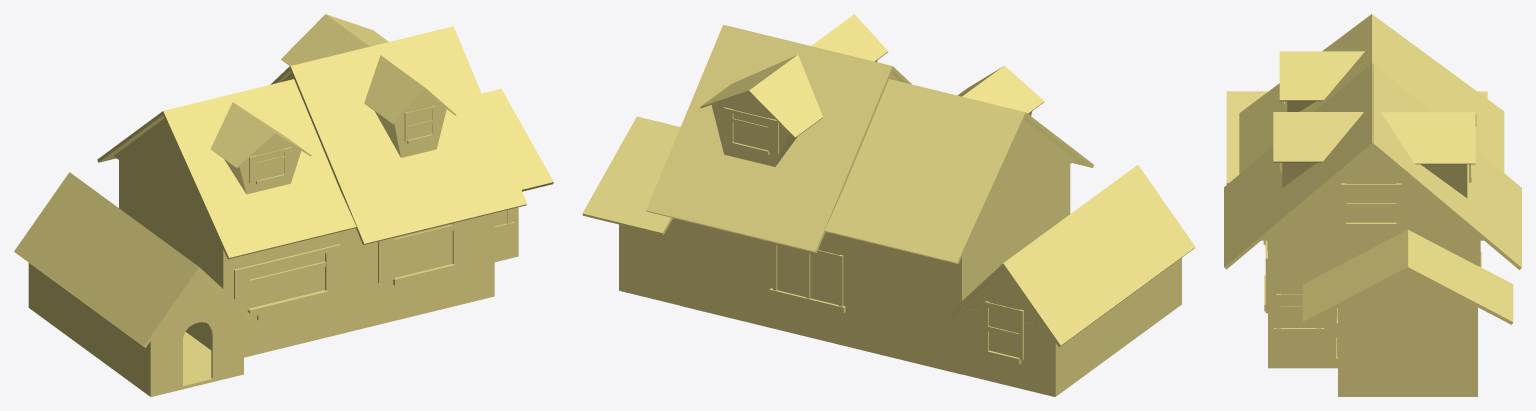
Rendered from Casa2.obj.
3 views of the same model, side by side, from view 1: azimuth 30°, elevation 25°; view 2: azimuth 150°, elevation 25°; view 3: azimuth 270°, elevation 25° (orthographic). The views are drawn at different scales.
Parts seen in each view (by area): view 1: pPrism3; view 2: pPrism3; view 3: pPrism3.
Boxes of the visible parts, <box> form: pPrism3: <box>14,14,553,396</box>; pPrism3: <box>582,14,1195,396</box>; pPrism3: <box>1224,14,1521,396</box>.
Bounding box in the file's own units: 29.72 × 14.56 × 17.04.
Materials: 7 (6 with a texture image).
